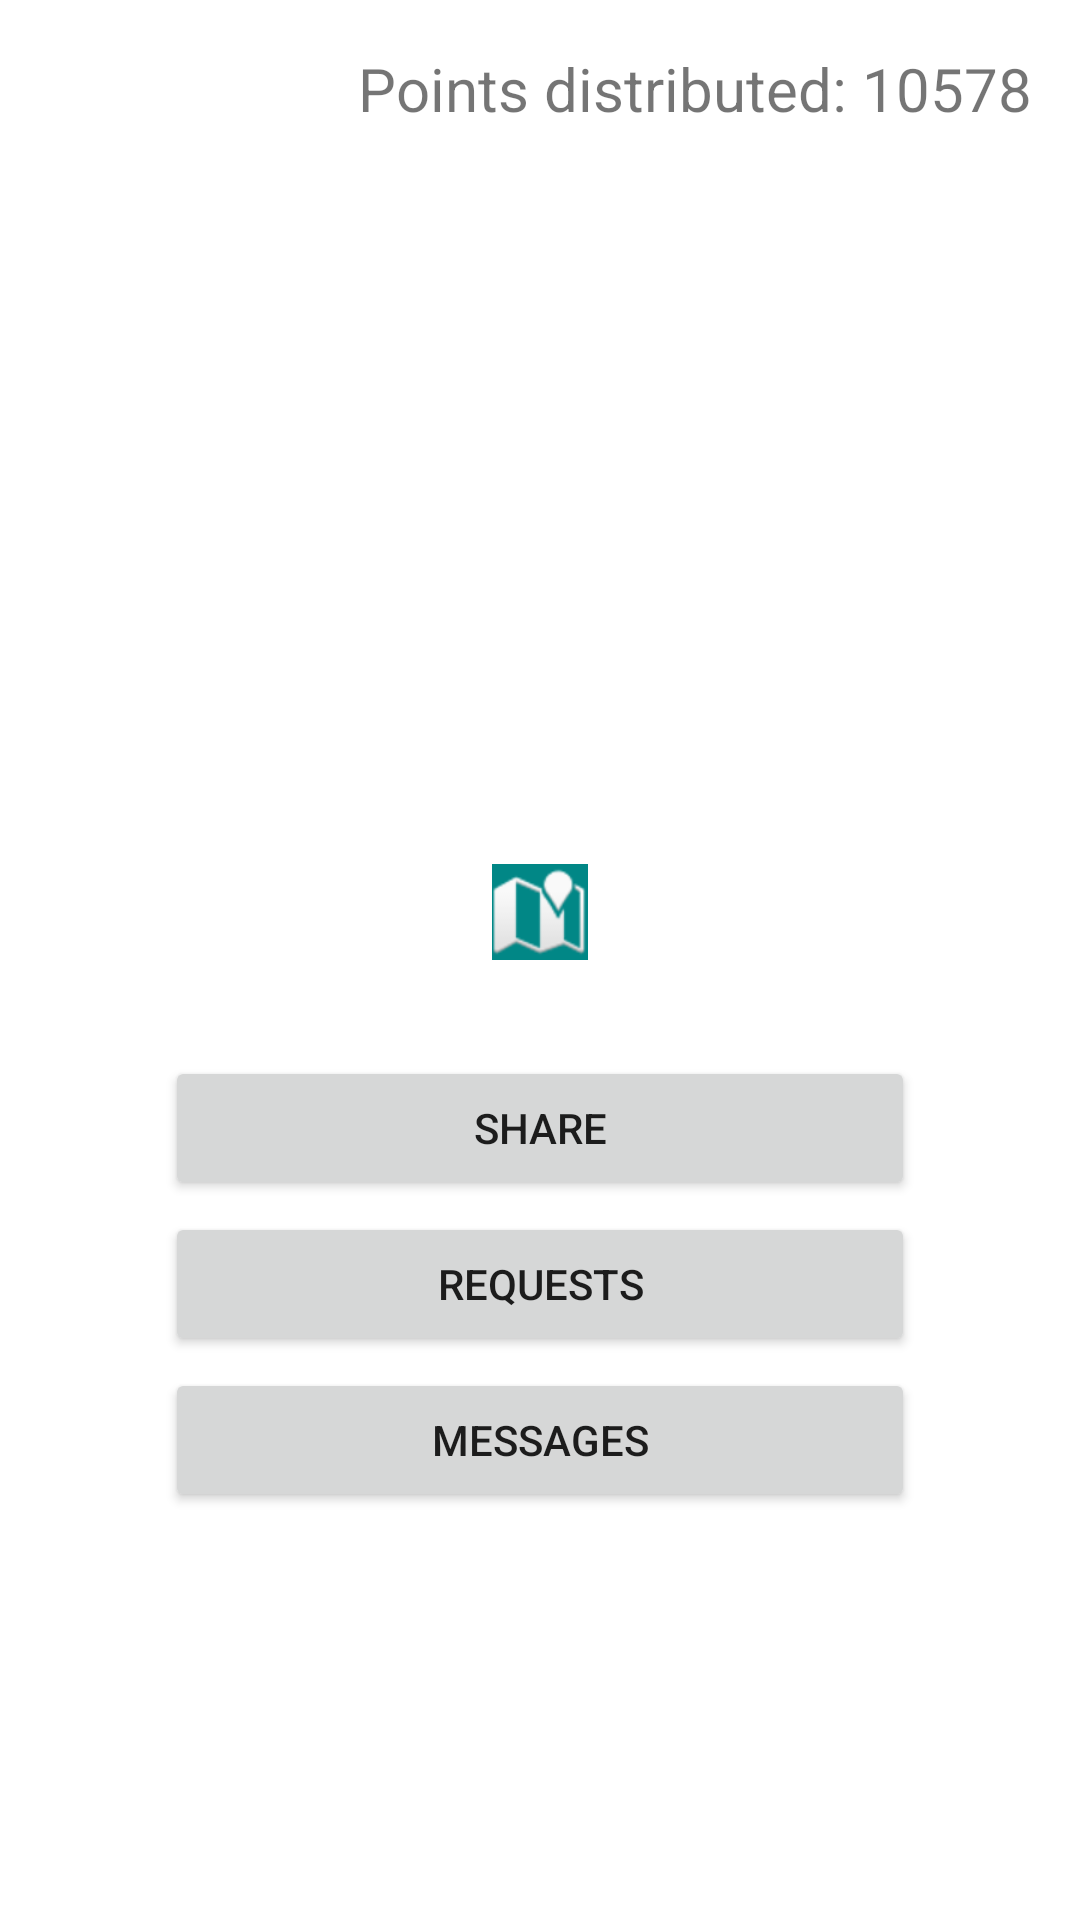

Where to tap for icons on this 1080w x 1920h app screen, as [x,y]:
map: [540,912]
